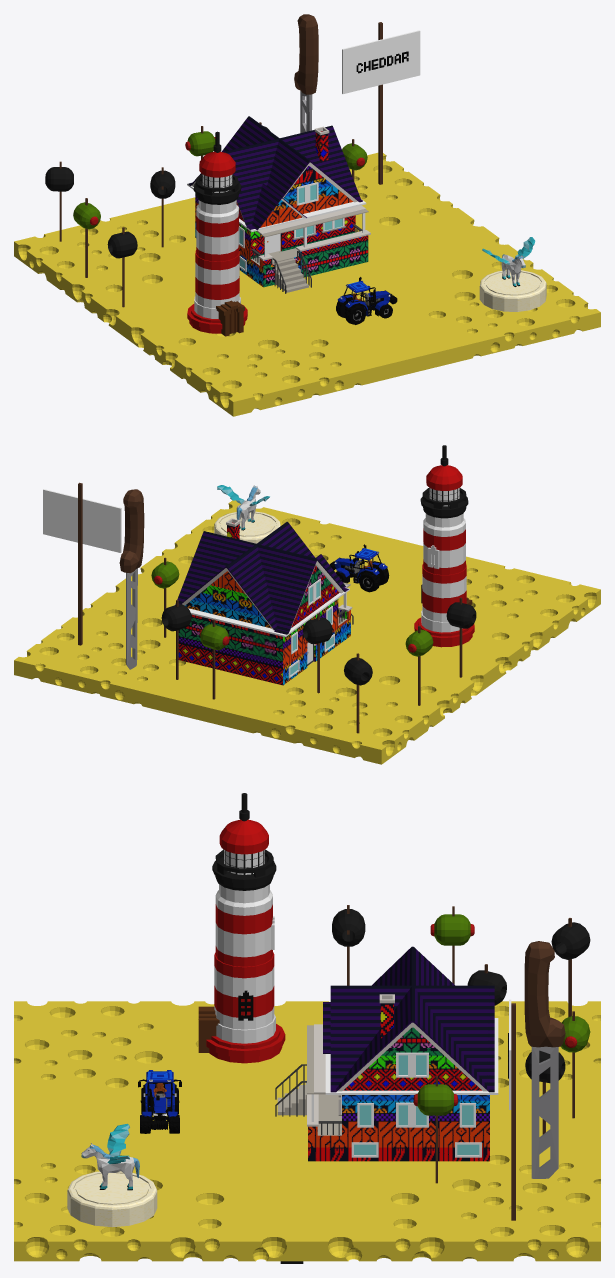
3 renders of one model, top to bottom at view 1: azimuth 30°, elevation 25°; view 2: azimuth 150°, elevation 25°; view 3: azimuth 270°, elevation 25°, orthographic. The views are drawn at different scales.
Parts seen in each view (by area): view 1: Cube.022, Cube.966, OBJRANDOM_LIGHTHOUSE, Cube.023, Cylinder.016, Cube.024, VEHICLES_TRACTOR, ANIMAL_PEGASO, Sphere.017, Sphere.016, Sphere.020, Sphere.018 (+2 smaller); view 2: Cube.022, Cube.966, OBJRANDOM_LIGHTHOUSE, Cube.023, Cube.024, VEHICLES_TRACTOR, Cylinder.016, Sphere.017, Sphere.016, Sphere.022, Sphere.020, Sphere.021 (+3 smaller); view 3: Cube.022, Cube.966, OBJRANDOM_LIGHTHOUSE, Cube.024, Cylinder.016, VEHICLES_TRACTOR, ANIMAL_PEGASO, Sphere.019, Cube.023, Sphere.016, Sphere.018, Sphere.017 (+3 smaller).
Part boxes in pixels (left/top/right/bottom): Cube.022: left=14, top=152, right=600, bottom=416; Cube.966: left=187, top=116, right=370, bottom=293; OBJRANDOM_LIGHTHOUSE: left=187, top=131, right=247, bottom=336; Cube.023: left=342, top=22, right=420, bottom=184; Cylinder.016: left=479, top=270, right=546, bottom=311; Cube.024: left=294, top=14, right=318, bottom=133; VEHICLES_TRACTOR: left=336, top=277, right=397, bottom=324; ANIMAL_PEGASO: left=482, top=237, right=535, bottom=286; Sphere.017: left=107, top=227, right=137, bottom=307; Sphere.016: left=45, top=161, right=73, bottom=241; Sphere.020: left=150, top=167, right=175, bottom=247; Sphere.018: left=73, top=198, right=100, bottom=277; Cube.022: left=14, top=500, right=600, bottom=764; Cube.966: left=174, top=518, right=353, bottom=685; OBJRANDOM_LIGHTHOUSE: left=414, top=445, right=474, bottom=647; Cube.023: left=43, top=482, right=121, bottom=645; Cube.024: left=119, top=489, right=144, bottom=669; VEHICLES_TRACTOR: left=329, top=544, right=389, bottom=592; Cylinder.016: left=214, top=511, right=280, bottom=543; Sphere.017: left=446, top=597, right=476, bottom=677; Sphere.016: left=344, top=653, right=372, bottom=733; Sphere.022: left=199, top=619, right=229, bottom=699; Sphere.020: left=303, top=613, right=332, bottom=693; Sphere.021: left=161, top=600, right=191, bottom=679; Cube.022: left=14, top=1001, right=600, bottom=1261; Cube.966: left=275, top=946, right=498, bottom=1161; OBJRANDOM_LIGHTHOUSE: left=198, top=793, right=285, bottom=1063; Cube.024: left=524, top=941, right=565, bottom=1178; Cylinder.016: left=67, top=1171, right=157, bottom=1227; VEHICLES_TRACTOR: left=138, top=1070, right=181, bottom=1133; ANIMAL_PEGASO: left=81, top=1123, right=139, bottom=1190; Sphere.019: left=413, top=1076, right=457, bottom=1183; Cube.023: left=508, top=999, right=515, bottom=1220; Sphere.016: left=551, top=918, right=590, bottom=1016; Sphere.018: left=430, top=906, right=474, bottom=984; Sphere.017: left=332, top=905, right=365, bottom=985.
Bounding box in the file's own units: 3917 × 2139 × 4000.
43 materials, 7 textured.
